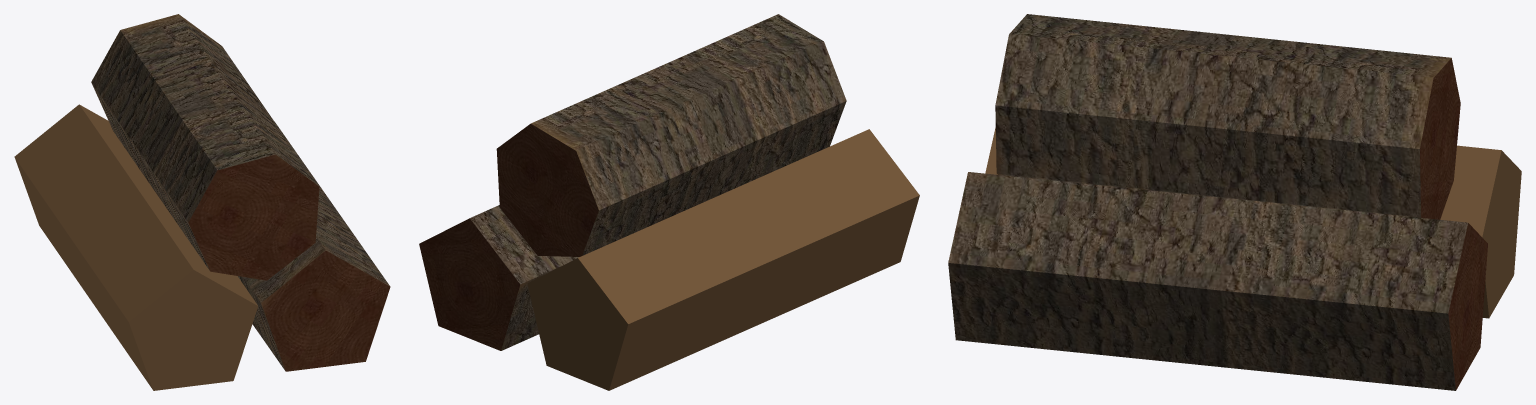
The model's file is wood_blocks.glb.
The picture shows the model from 3 angles, left to right: view 1: azimuth 30°, elevation 25°; view 2: azimuth 150°, elevation 25°; view 3: azimuth 270°, elevation 25°; orthographic projection. The views are drawn at different scales.
Parts seen in each view (by area): view 1: Circle; view 2: Circle; view 3: Circle.
Boxes of the visible parts, x1=… form: Circle: x1=14, y1=14, x2=390, y2=390; Circle: x1=419, y1=14, x2=919, y2=390; Circle: x1=948, y1=14, x2=1521, y2=390.
Size of the model in its own units: 1.13 by 0.7134 by 1.41.
Materials: 1 (1 with a texture image).
